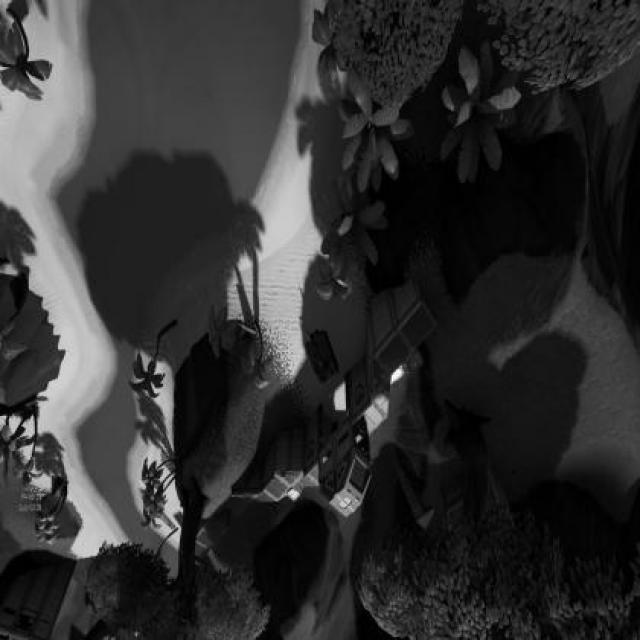tank: (299, 315, 338, 387)
